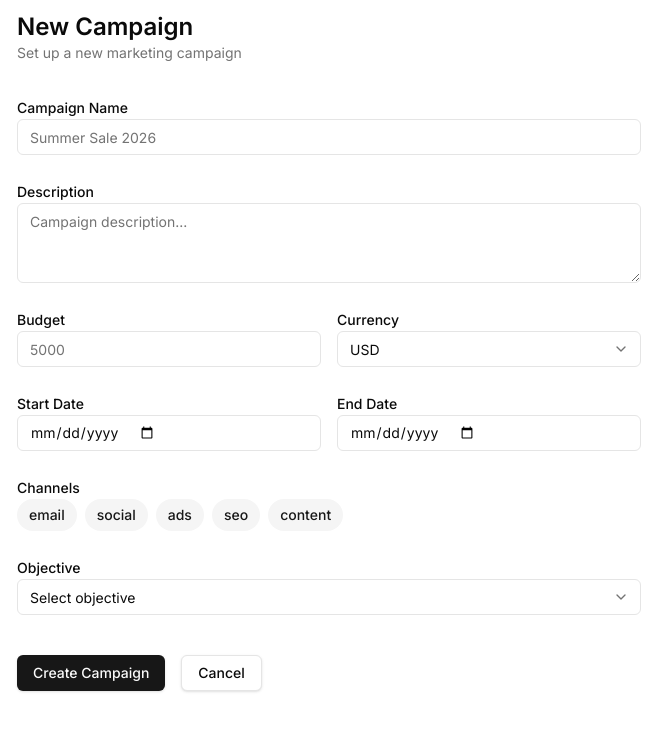
Test: NewCampaignPage › shows validation error when no channels selected
Type "Summer Sale" into the field labelled "Campaign Name" at {"x": 329, "y": 137}, box x1=17 y1=119 x2=641 y2=155
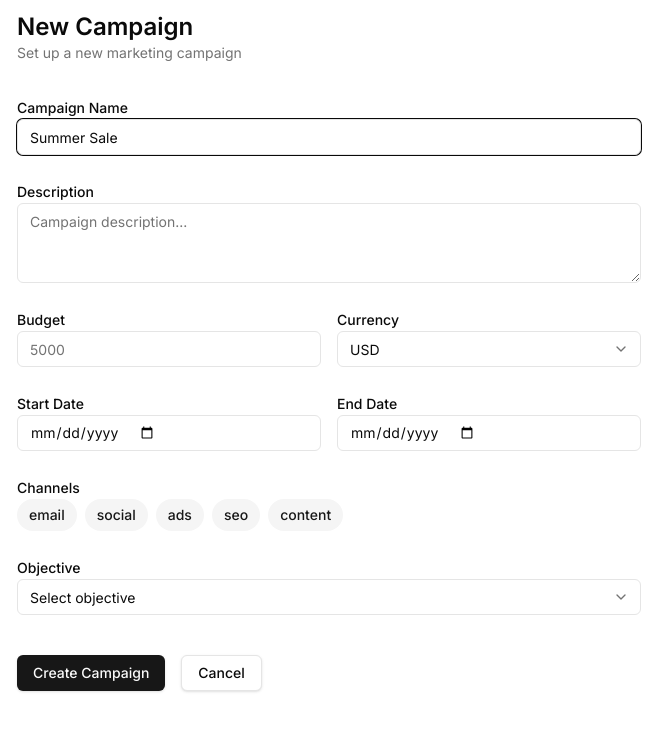
Click the button "Create Campaign" at {"x": 91, "y": 673}, box x1=17 y1=655 x2=165 y2=691
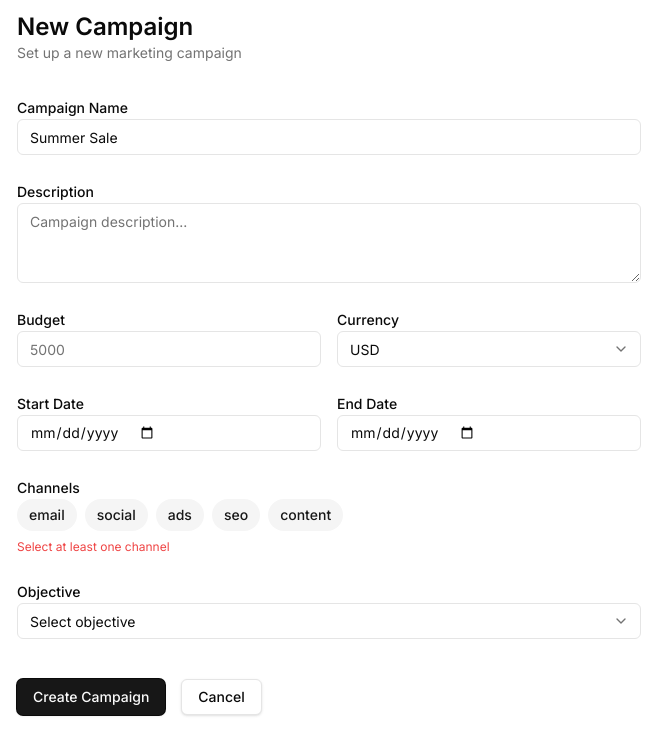
expect the text "Select at least one channel" is shown: met, box x1=17 y1=539 x2=170 y2=554
